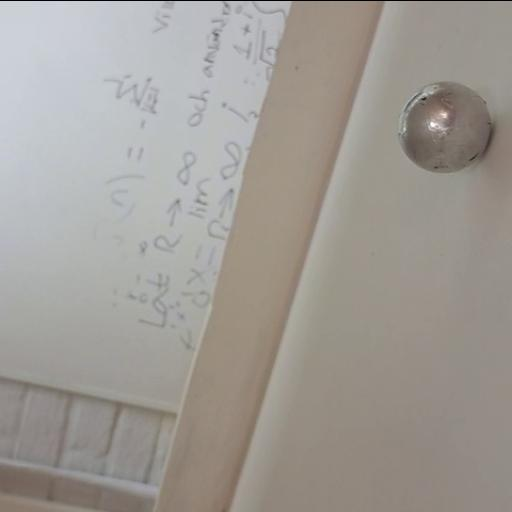alive: (396, 81, 492, 173)
